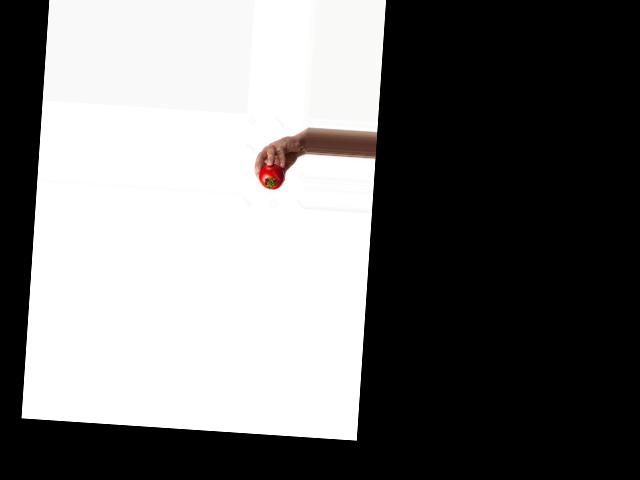tomato: (258, 163, 285, 190)
